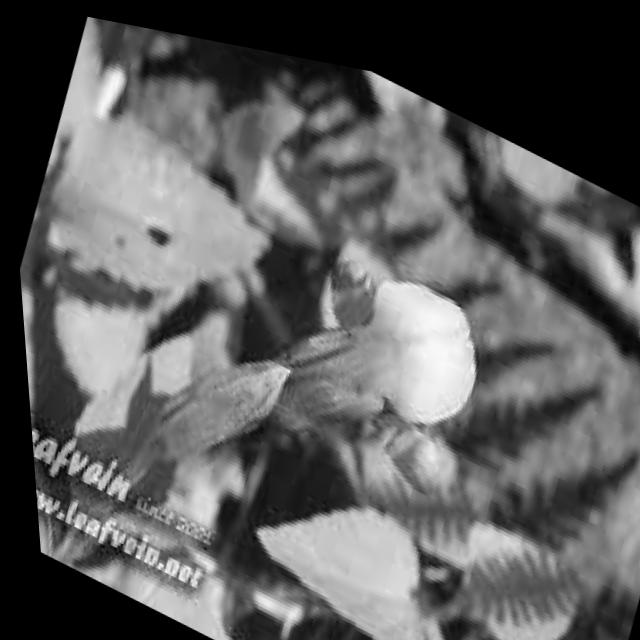Flower: (230, 182, 512, 518)
